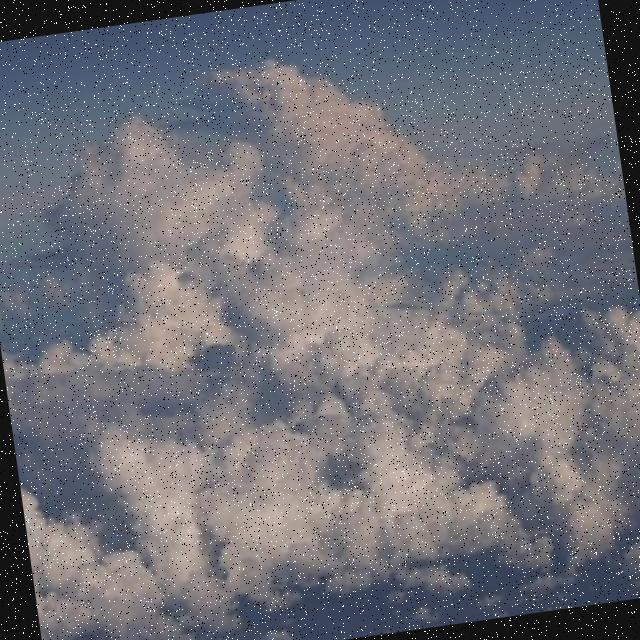Cu: (1, 40, 640, 640)
